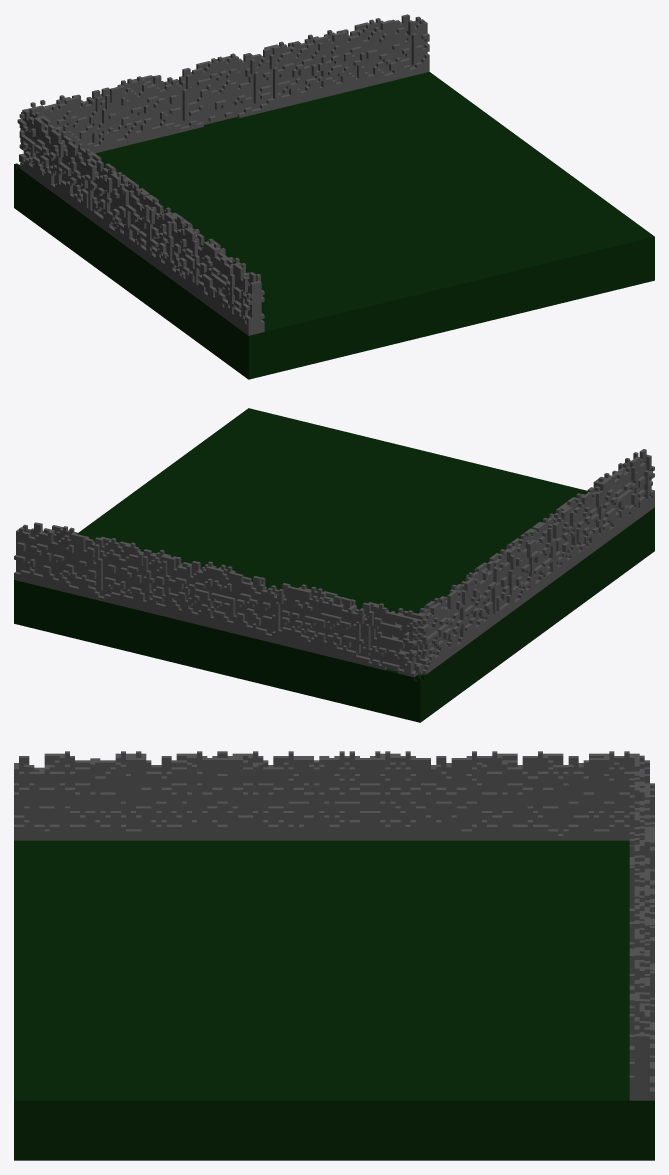
Rendered from map-40.obj.
3 renders of one model, top to bottom at view 1: azimuth 30°, elevation 25°; view 2: azimuth 150°, elevation 25°; view 3: azimuth 270°, elevation 25°, orthographic. The views are drawn at different scales.
Parts seen in each view (by area): view 1: map-40; view 2: map-40; view 3: map-40.
Part boxes in pixels (left/top/right/bottom): map-40: left=14, top=14, right=654, bottom=379; map-40: left=14, top=408, right=654, bottom=722; map-40: left=14, top=751, right=654, bottom=1160.
Bounding box in the file's own units: 126 × 31 × 126.
Materials: 1 (1 with a texture image).
